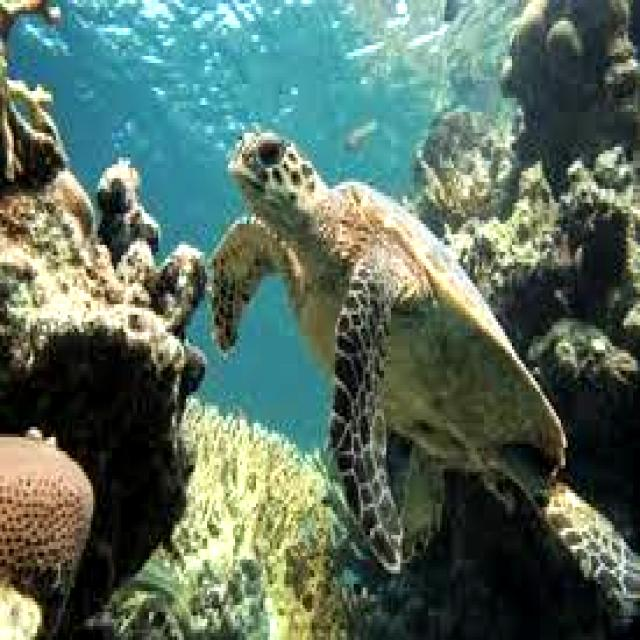Sea turtle: (209, 127, 640, 624)
